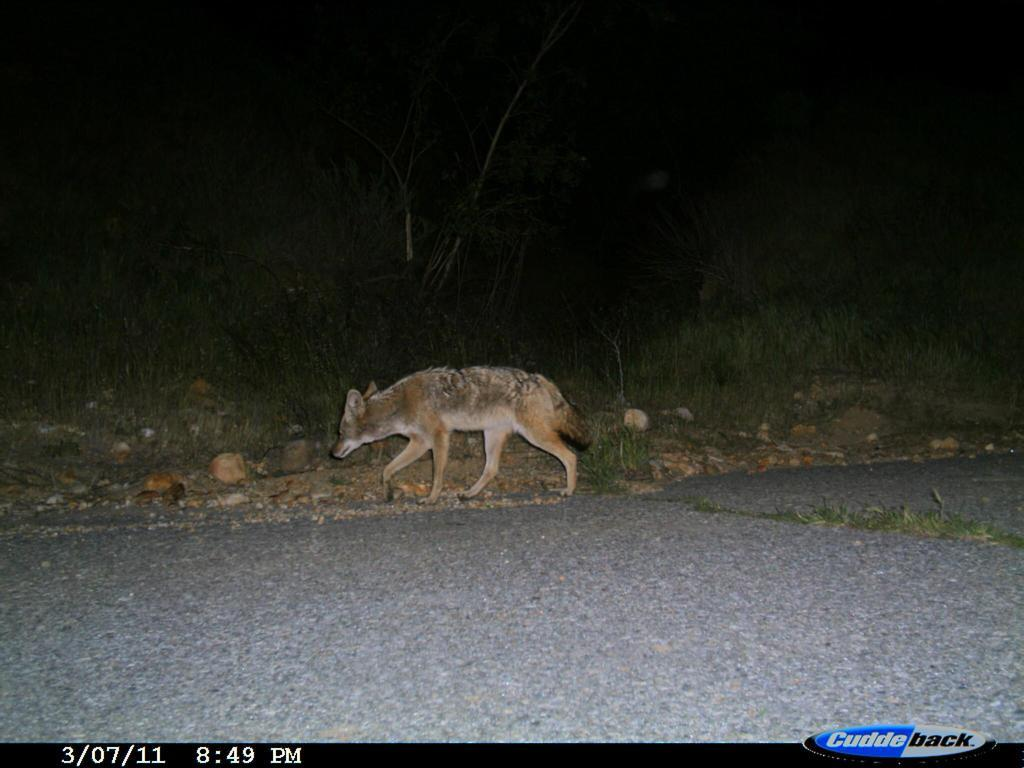coyote: (315, 350, 591, 521)
